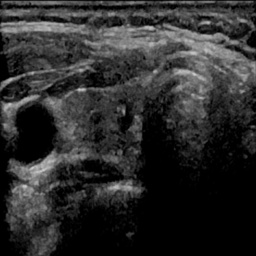mass: (103, 93, 129, 137)
